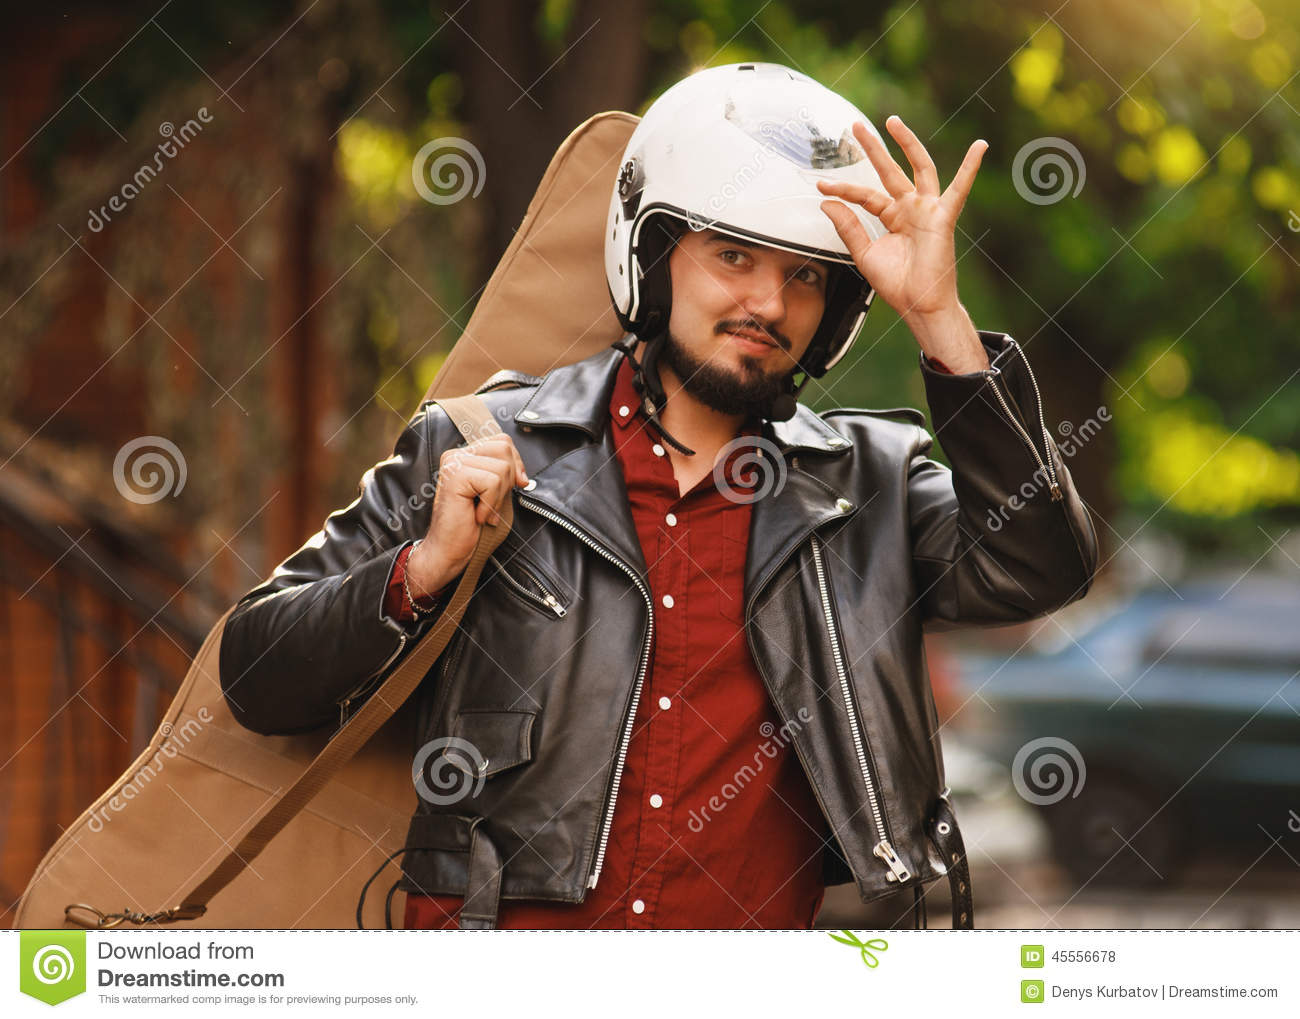helmet: (591, 79, 924, 374)
